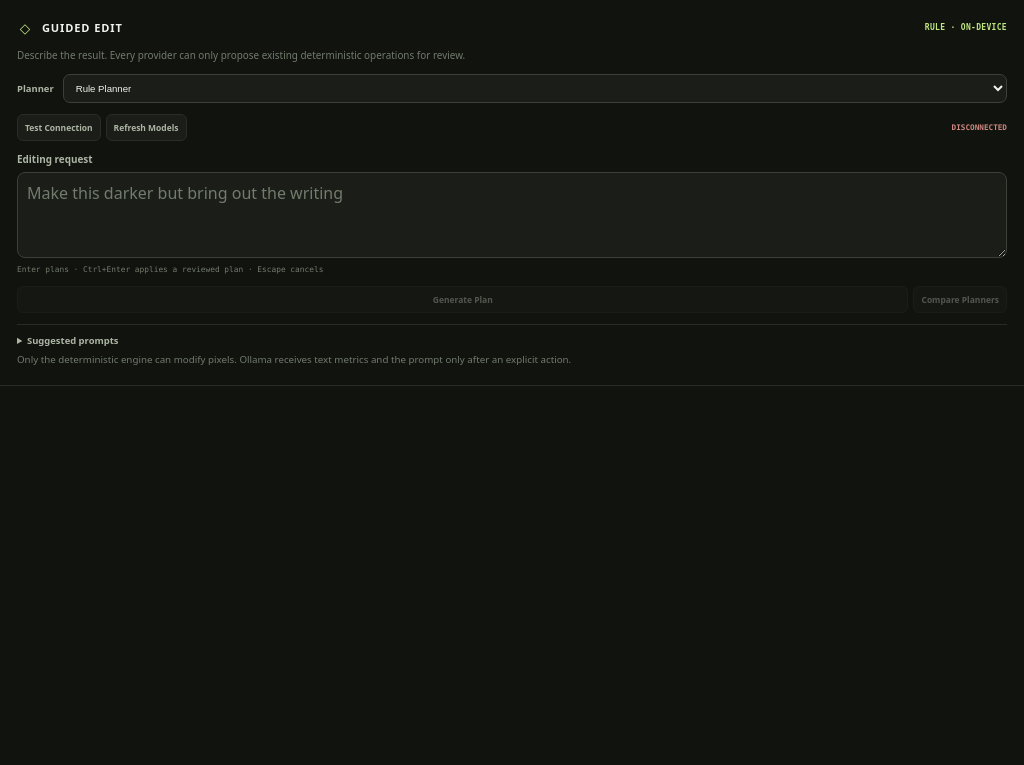
Test: GuidedEditPanel › can hide confidence and warnings through local settings
Type "Reduce noise" into the text box labelled "Editing request".
click(512, 215); type("Reduce noise")  # box [17,172,1007,258]
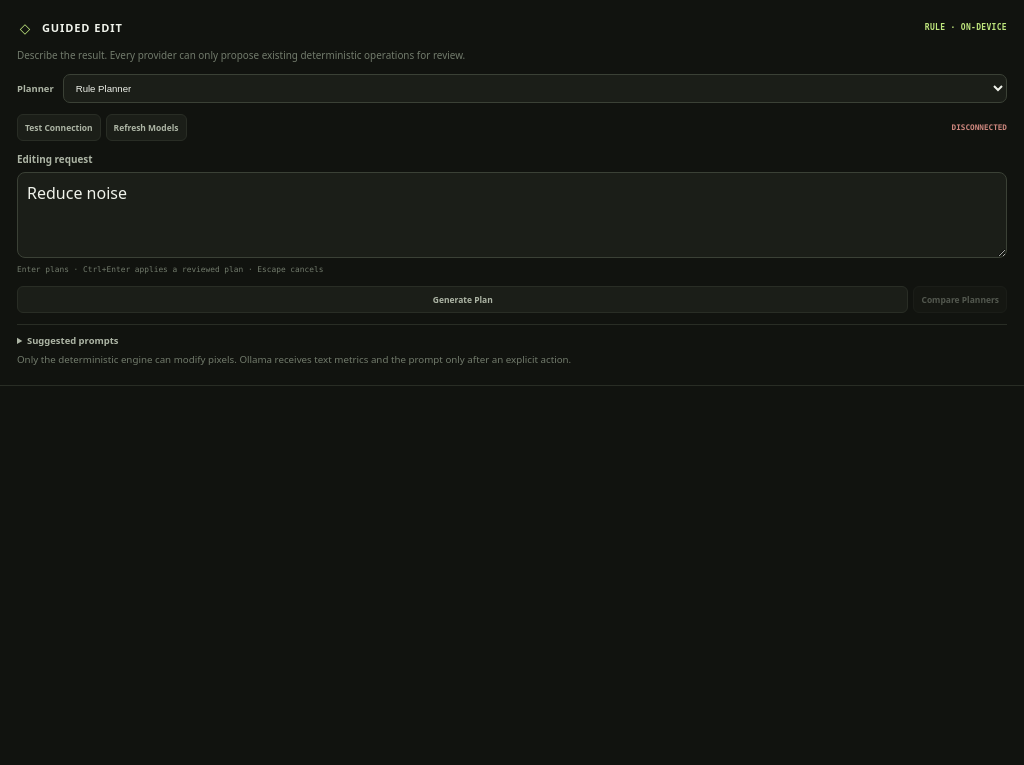
Click the button "Generate Plan".
click(463, 300)  # box [17,286,908,313]
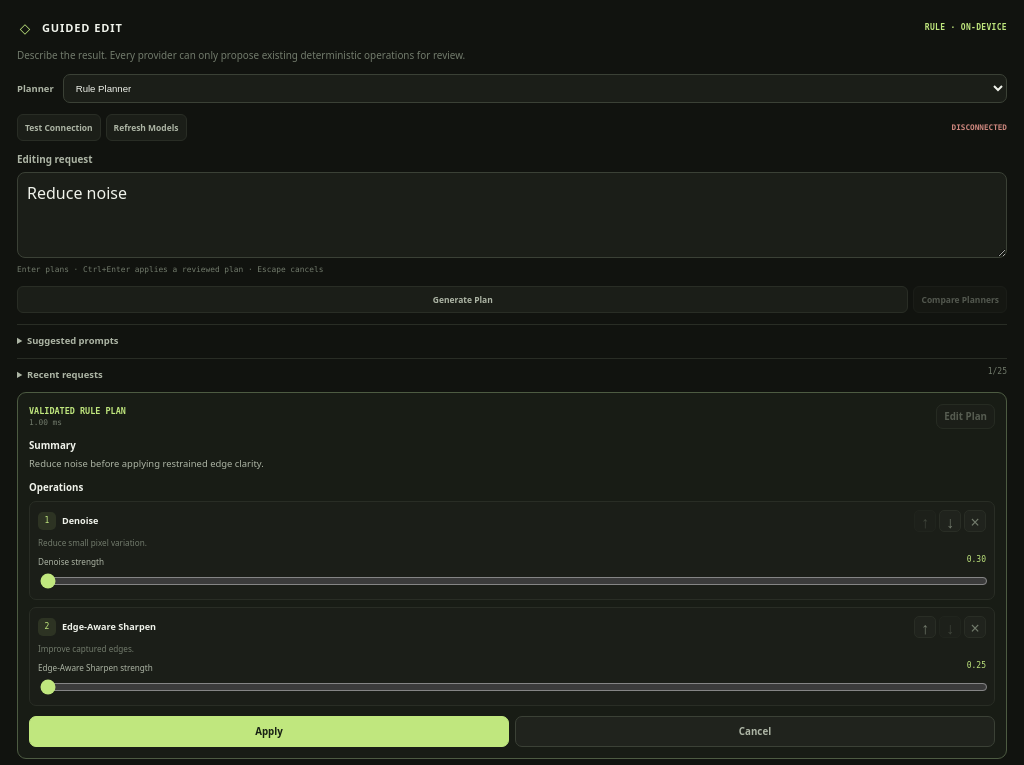
Expected: the text "Denoise" is shown, [62,514,98,527]
